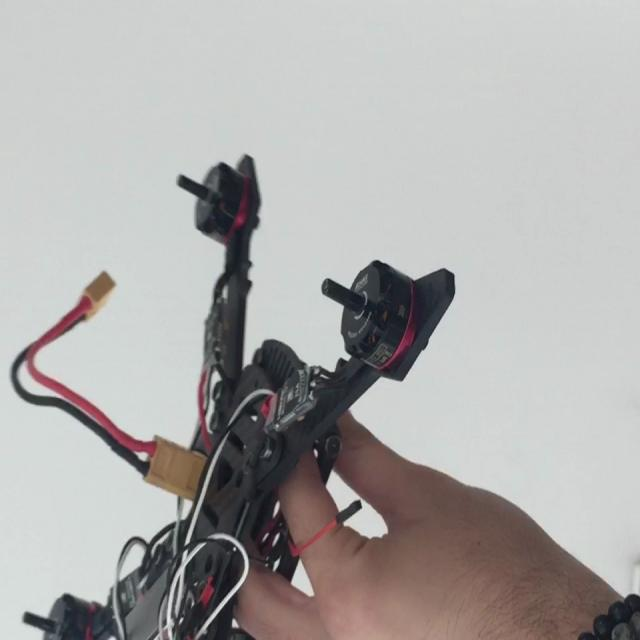drone: (0, 122, 464, 640)
